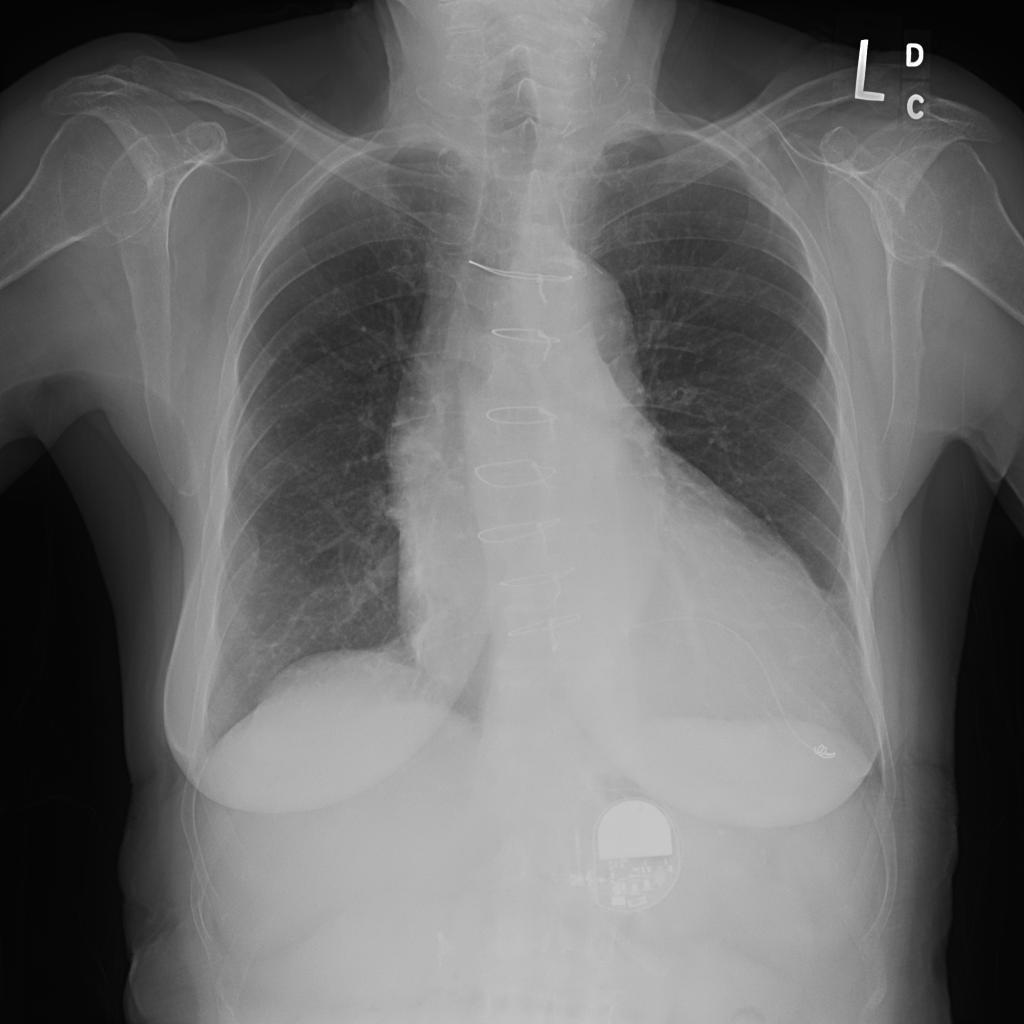Nodule: (210, 290, 248, 328)
